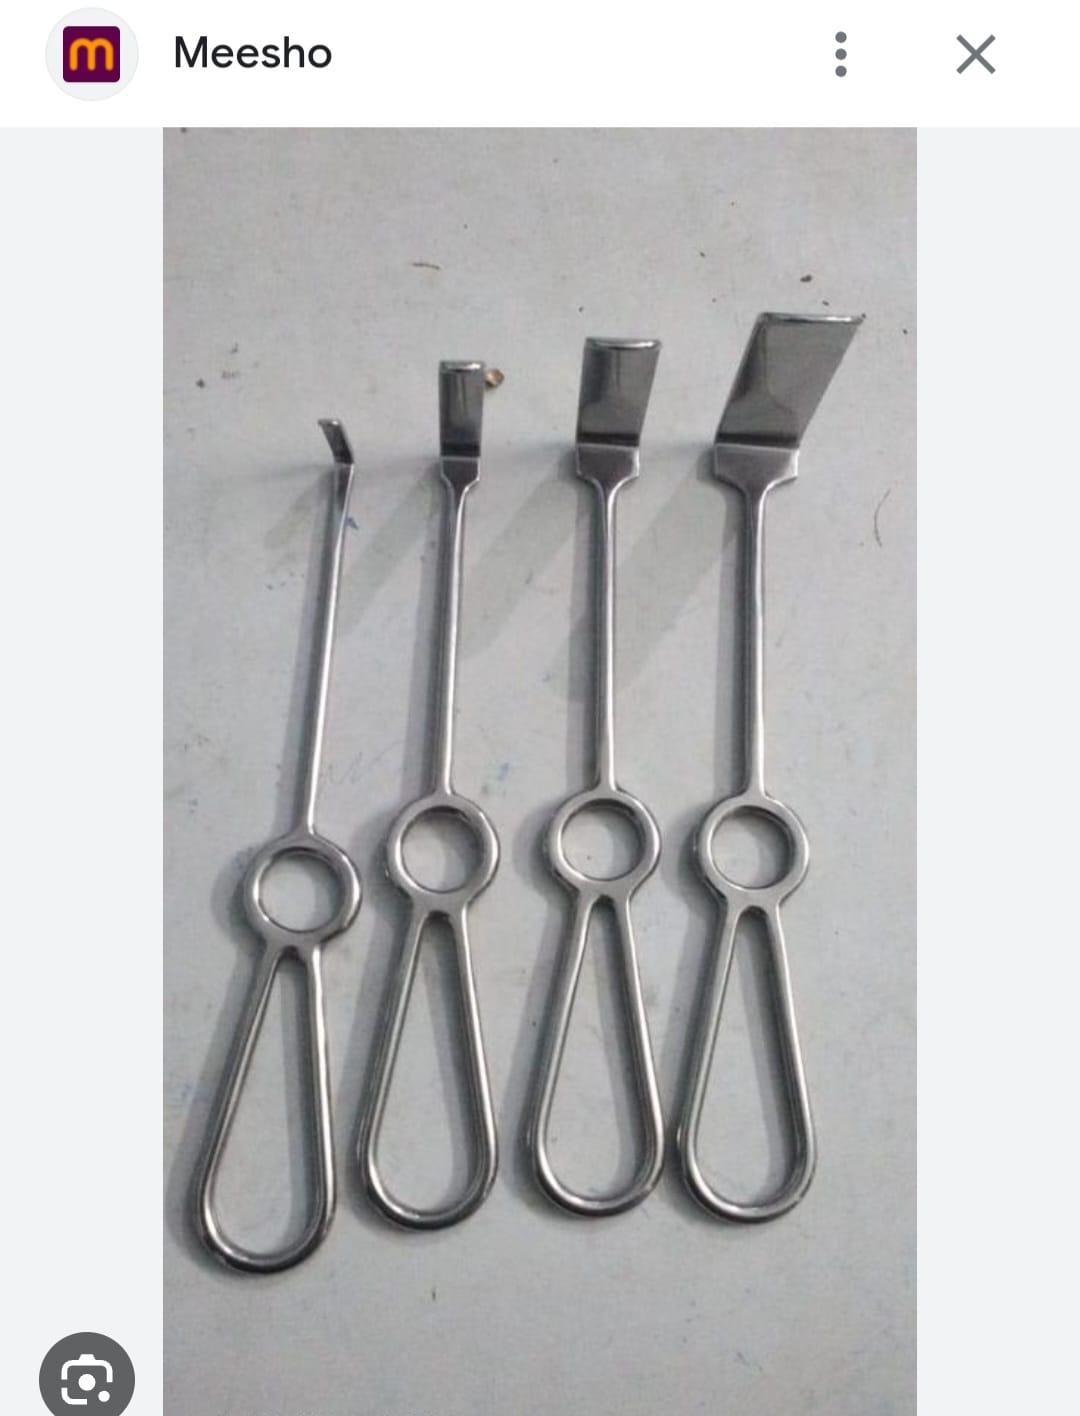Langenbach Retractor: (690, 294, 838, 1218), (528, 320, 678, 1218), (350, 354, 500, 1234)
